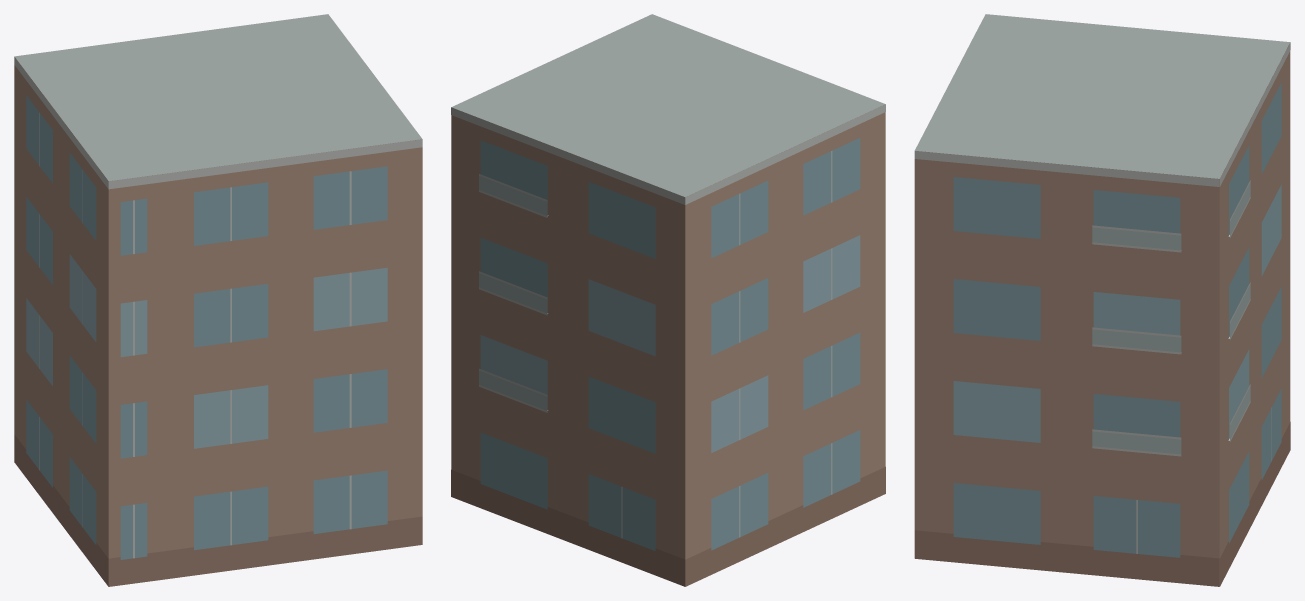
Rendered from residential-b42c3ce3-4a3a-4dc7-b76a-2473bfe424e2.glb.
The picture shows the model from 3 angles, left to right: view 1: azimuth 30°, elevation 25°; view 2: azimuth 150°, elevation 25°; view 3: azimuth 270°, elevation 25°; orthographic projection. The views are drawn at different scales.
Visible parts, largest first — view 1: residential-b42c3ce3-4a3a-4dc7-b76a-2473bfe424e2.tmp; view 2: residential-b42c3ce3-4a3a-4dc7-b76a-2473bfe424e2.tmp; view 3: residential-b42c3ce3-4a3a-4dc7-b76a-2473bfe424e2.tmp.
Boxes of the visible parts, bbox=[...] form: residential-b42c3ce3-4a3a-4dc7-b76a-2473bfe424e2.tmp: bbox=[14, 14, 422, 586]; residential-b42c3ce3-4a3a-4dc7-b76a-2473bfe424e2.tmp: bbox=[451, 14, 885, 586]; residential-b42c3ce3-4a3a-4dc7-b76a-2473bfe424e2.tmp: bbox=[914, 14, 1290, 586].
Size of the model in its own units: 10.59 by 12.2 by 10.2.
